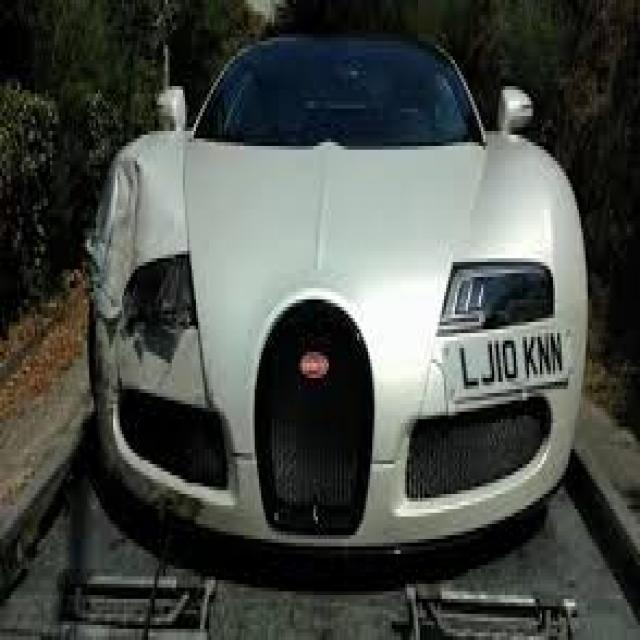moderate: (72, 185, 178, 468)
